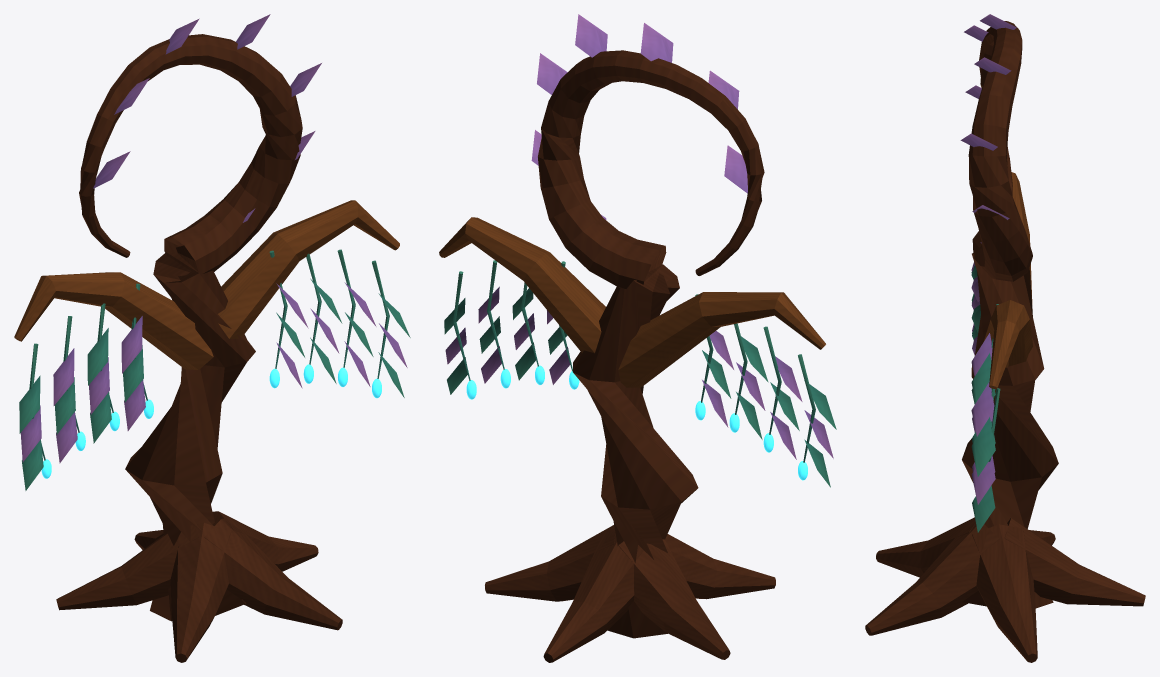
File: forest_spiral_tree.glb
3 views of the same model, side by side, from view 1: azimuth 30°, elevation 25°; view 2: azimuth 150°, elevation 25°; view 3: azimuth 270°, elevation 25° (orthographic).
Parts seen in each view (by area): view 1: Dream willow coiling trunk, Dream willow arching branch, Dream willow arching branch.001, Splayed dreaming tree root.009, Splayed dreaming tree root.008, Splayed dreaming tree root.007, Splayed dreaming tree root.005, Drooping teal willow leaf.006, Drooping teal willow leaf, Drooping teal willow leaf.003, Drooping teal willow leaf.009, Drooping teal willow leaf.010 (+7 smaller); view 2: Dream willow coiling trunk, Dream willow arching branch, Dream willow arching branch.001, Splayed dreaming tree root.006, Splayed dreaming tree root.007, Splayed dreaming tree root.005, Splayed dreaming tree root.008, Spiral crown lilac leaf.003, Spiral crown lilac leaf.004, Spiral crown lilac leaf.006, Spiral crown lilac leaf.002; view 3: Dream willow coiling trunk, Splayed dreaming tree root.005, Splayed dreaming tree root.009, Splayed dreaming tree root.006, Dream willow arching branch.001, Splayed dreaming tree root.008, Drooping teal willow leaf.021, Drooping teal willow leaf.018, Drooping teal willow leaf.022, Drooping teal willow leaf.023, Dream willow arching branch, Drooping teal willow leaf.015.
Part boxes in pixels (<box>): Dream willow coiling trunk: <box>79,34,302,621</box>; Dream willow arching branch: <box>14,272,213,369</box>; Dream willow arching branch.001: <box>218,200,399,338</box>; Splayed dreaming tree root.009: <box>204,517,342,630</box>; Splayed dreaming tree root.008: <box>170,522,230,662</box>; Splayed dreaming tree root.007: <box>56,524,198,610</box>; Splayed dreaming tree root.005: <box>212,511,318,571</box>; Drooping teal willow leaf.006: <box>53,348,74,405</box>; Drooping teal willow leaf: <box>121,316,142,373</box>; Drooping teal willow leaf.003: <box>87,328,108,385</box>; Drooping teal willow leaf.009: <box>19,375,40,433</box>; Drooping teal willow leaf.010: <box>20,405,41,462</box>; Dream willow coiling trunk: <box>538,50,764,638</box>; Dream willow arching branch: <box>618,292,825,387</box>; Dream willow arching branch.001: <box>439,217,605,353</box>; Splayed dreaming tree root.006: <box>543,531,647,662</box>; Splayed dreaming tree root.007: <box>618,539,730,659</box>; Splayed dreaming tree root.005: <box>485,525,615,601</box>; Splayed dreaming tree root.008: <box>664,534,775,599</box>; Spiral crown lilac leaf.003: <box>575,14,607,57</box>; Spiral crown lilac leaf.004: <box>640,23,673,62</box>; Spiral crown lilac leaf.006: <box>724,145,747,193</box>; Spiral crown lilac leaf.002: <box>537,53,567,94</box>; Dream willow coiling trunk: <box>962,21,1058,608</box>; Splayed dreaming tree root.005: <box>972,524,1037,662</box>; Splayed dreaming tree root.009: <box>865,520,999,635</box>; Splayed dreaming tree root.006: <box>1004,518,1145,606</box>; Dream willow arching branch.001: <box>983,300,1032,388</box>; Splayed dreaming tree root.008: <box>876,517,975,577</box>; Drooping teal willow leaf.021: <box>971,417,995,476</box>; Drooping teal willow leaf.018: <box>971,381,994,436</box>; Drooping teal willow leaf.022: <box>971,457,995,504</box>; Drooping teal willow leaf.023: <box>972,485,995,532</box>; Dream willow arching branch: <box>1011,172,1032,309</box>; Drooping teal willow leaf.015: <box>971,353,991,402</box>.
Size of the model in its own units: 2.64 by 3.81 by 1.65.
5 materials, 5 textured.
